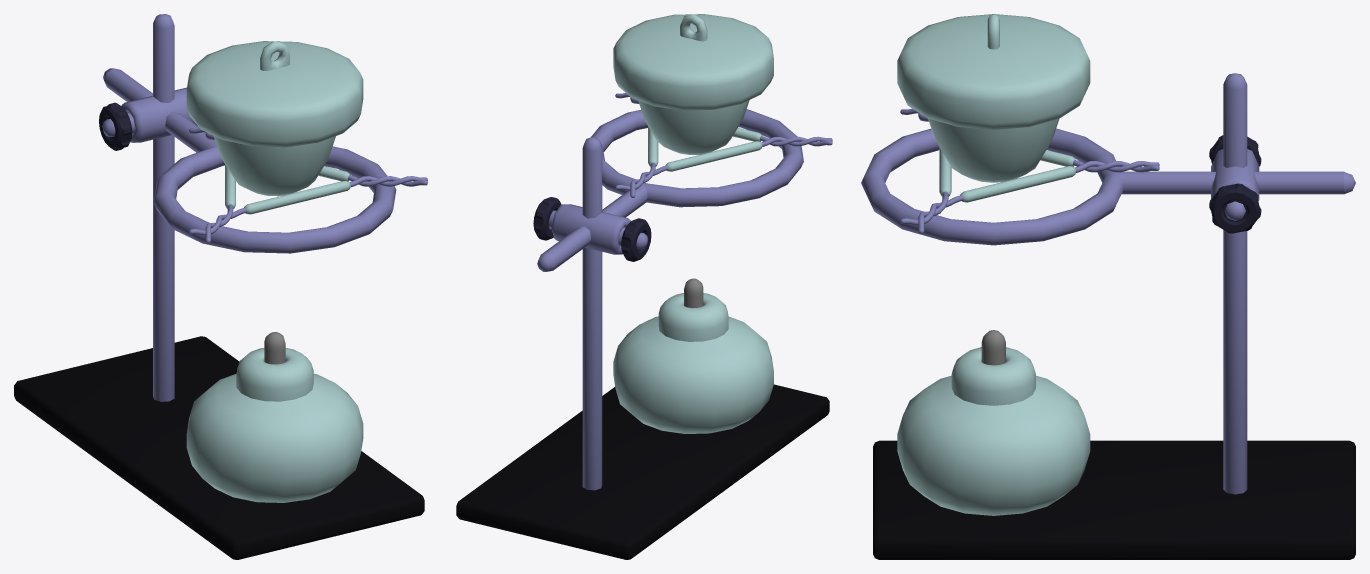
The model's file is LastLuna_Model_Station_Smelter.fbx.
3 renders of one model, left to right at view 1: azimuth 30°, elevation 25°; view 2: azimuth 150°, elevation 25°; view 3: azimuth 270°, elevation 25°, orthographic. The views are drawn at different scales.
Parts seen in each view (by area): view 1: Stand_Base001, Alcohol_Lamp001, Crucible_Lid001, Stand_Arm_Ring001, Stand_Pole001, Crucible001, Stand_Fixture001, Clay_Triangle001, Clay_Triangle_Wire001, Stand_Fixture_Handle001, Alcohol_Lamp_Wick001; view 2: Stand_Base001, Alcohol_Lamp001, Crucible_Lid001, Stand_Arm_Ring001, Stand_Pole001, Crucible001, Stand_Fixture001, Stand_Fixture_Handle001, Clay_Triangle001, Clay_Triangle_Wire001, Alcohol_Lamp_Wick001; view 3: Stand_Base001, Alcohol_Lamp001, Crucible_Lid001, Stand_Arm_Ring001, Stand_Pole001, Crucible001, Clay_Triangle001, Stand_Fixture_Handle001, Clay_Triangle_Wire001, Stand_Fixture001, Alcohol_Lamp_Wick001.
Boxes of the visible parts, bbox=[...] form: Stand_Base001: bbox=[14, 336, 424, 559]; Alcohol_Lamp001: bbox=[186, 348, 363, 502]; Crucible_Lid001: bbox=[186, 41, 363, 147]; Stand_Arm_Ring001: bbox=[103, 68, 396, 253]; Stand_Pole001: bbox=[153, 14, 174, 401]; Crucible001: bbox=[213, 135, 335, 196]; Stand_Fixture001: bbox=[102, 87, 197, 142]; Clay_Triangle001: bbox=[225, 164, 350, 214]; Clay_Triangle_Wire001: bbox=[189, 128, 427, 243]; Stand_Fixture_Handle001: bbox=[99, 102, 132, 150]; Alcohol_Lamp_Wick001: bbox=[264, 332, 285, 364]; Stand_Base001: bbox=[456, 384, 829, 559]; Alcohol_Lamp001: bbox=[613, 293, 773, 433]; Crucible_Lid001: bbox=[613, 14, 773, 110]; Stand_Arm_Ring001: bbox=[537, 109, 803, 271]; Stand_Pole001: bbox=[582, 137, 602, 490]; Crucible001: bbox=[638, 100, 749, 154]; Stand_Fixture001: bbox=[548, 204, 648, 254]; Stand_Fixture_Handle001: bbox=[533, 197, 651, 261]; Clay_Triangle001: bbox=[648, 126, 762, 171]; Clay_Triangle_Wire001: bbox=[615, 93, 832, 197]; Alcohol_Lamp_Wick001: bbox=[684, 278, 703, 307]; Stand_Base001: bbox=[873, 440, 1355, 559]; Alcohol_Lamp001: bbox=[897, 347, 1090, 515]; Crucible_Lid001: bbox=[897, 14, 1090, 129]; Stand_Arm_Ring001: bbox=[861, 128, 1355, 245]; Stand_Pole001: bbox=[1223, 73, 1247, 494]; Crucible001: bbox=[928, 118, 1059, 182]; Clay_Triangle001: bbox=[939, 147, 1075, 202]; Stand_Fixture_Handle001: bbox=[1209, 135, 1261, 233]; Clay_Triangle_Wire001: bbox=[900, 108, 1159, 233]; Stand_Fixture001: bbox=[1211, 149, 1259, 220]; Alcohol_Lamp_Wick001: bbox=[981, 330, 1005, 365].
Size of the model in its own units: 48.73 by 89.36 by 80.71.
